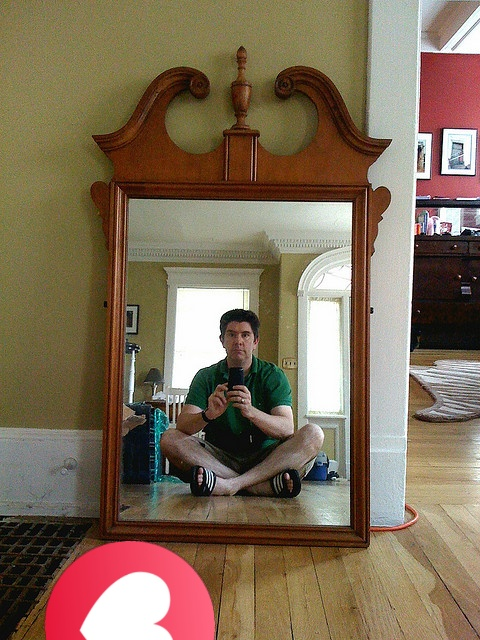love: (45, 541, 215, 640)
